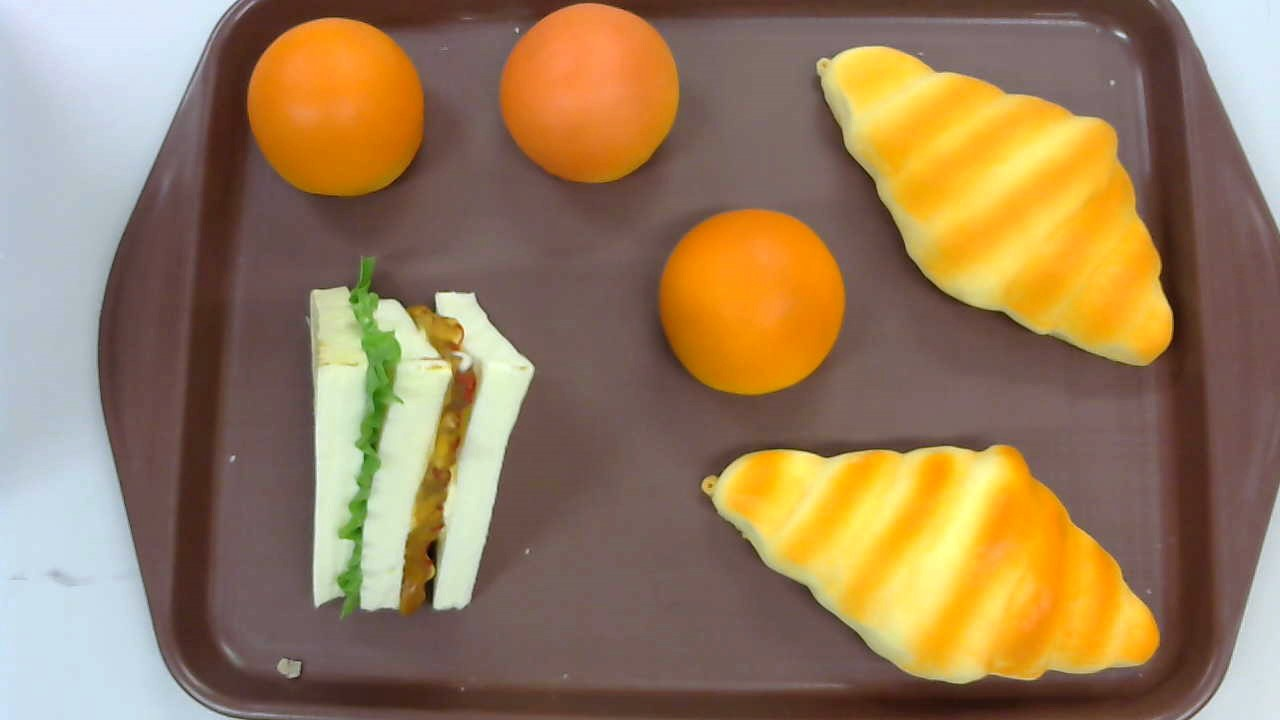bun: (658, 208, 845, 396), (499, 3, 682, 185), (247, 16, 426, 196)
croissant: (817, 44, 1173, 366), (701, 444, 1160, 685)
sandwich: (305, 253, 535, 622)
